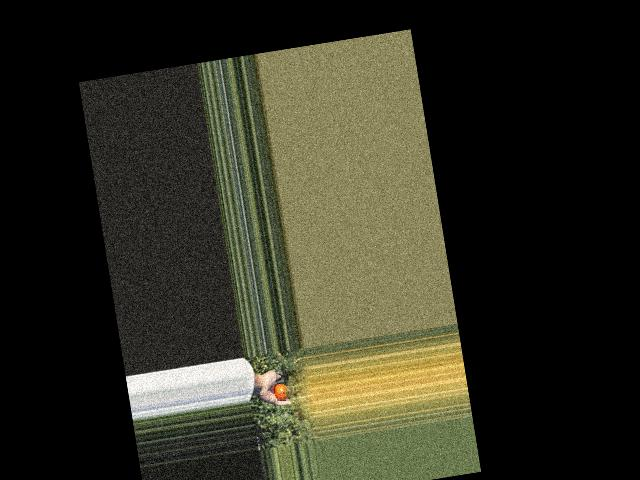tomato: (273, 383, 290, 401)
